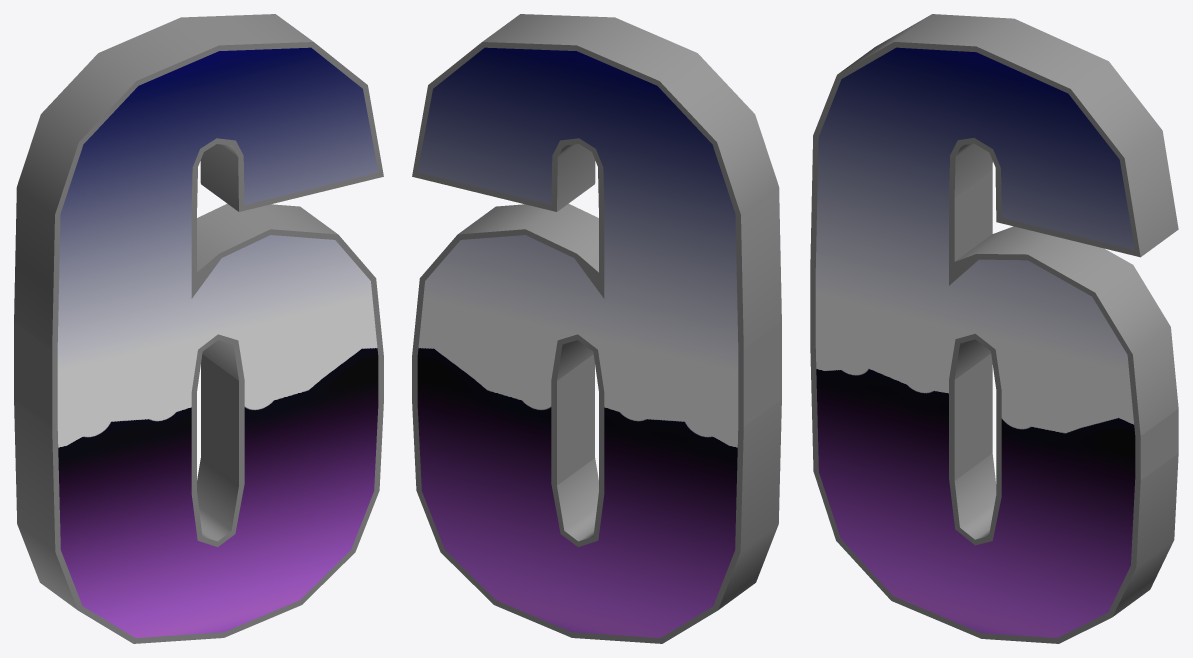
The picture shows the model from 3 angles, left to right: view 1: azimuth 30°, elevation 25°; view 2: azimuth 150°, elevation 25°; view 3: azimuth 330°, elevation 25°; orthographic projection.
Visible parts, largest first — view 1: 6, 6_outline; view 2: 6, 6_outline; view 3: 6, 6_outline.
Boxes of the visible parts, box(x1,y1,x2,y2) form: 6: box(57, 47, 378, 637); 6_outline: box(14, 14, 383, 643); 6: box(417, 47, 738, 637); 6_outline: box(412, 14, 781, 643); 6: box(815, 47, 1135, 637); 6_outline: box(810, 14, 1178, 643).
Size of the model in its own units: 60.2 by 103 by 12.
2 materials, 1 textured.
